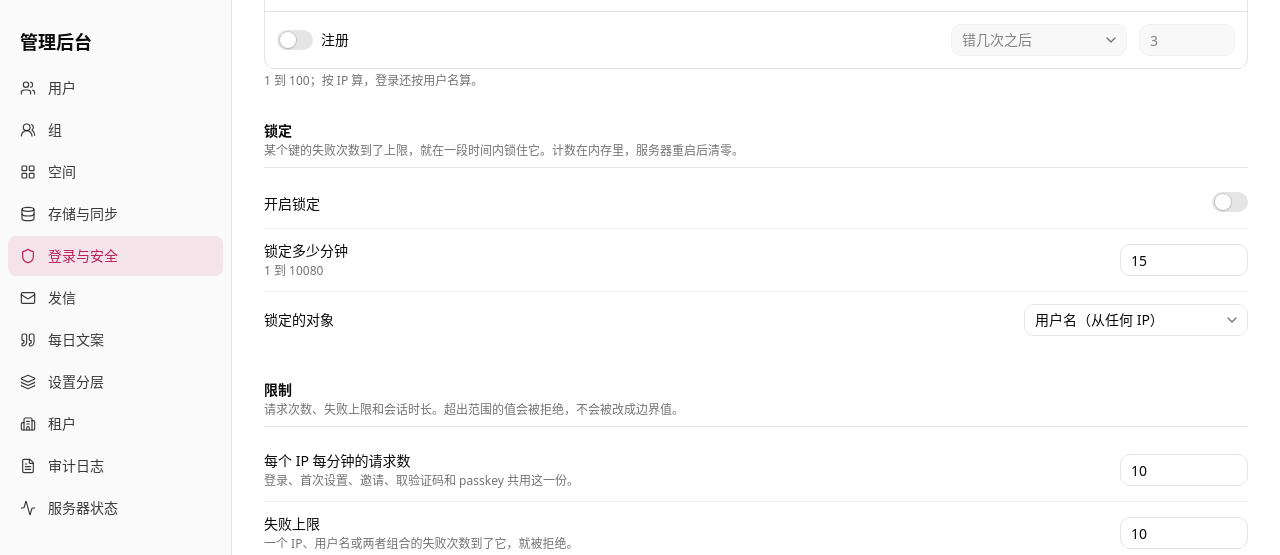
Test case: the security page › lockout by username warns, asks to confirm, and is only chosen after that
The width and height of the screenshot is (1280, 555).
Later steps or results of the test are not shown.
(page scrolled)
Select "用户名（从任何 IP）" in the dropdown with id "security-lock-scope": coordinates (1136, 320) x1=1024 y1=304 x2=1248 y2=336
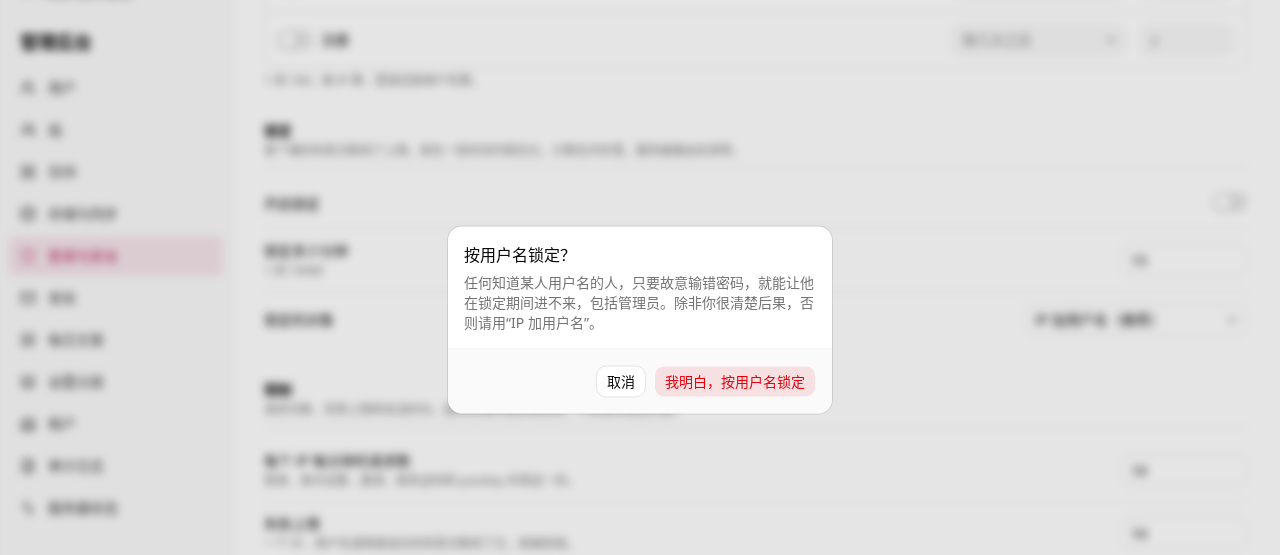
Press the mouse on the button "取消": coordinates (621, 382) x1=596 y1=366 x2=646 y2=398
Click the button "取消": coordinates (621, 382) x1=596 y1=366 x2=646 y2=398
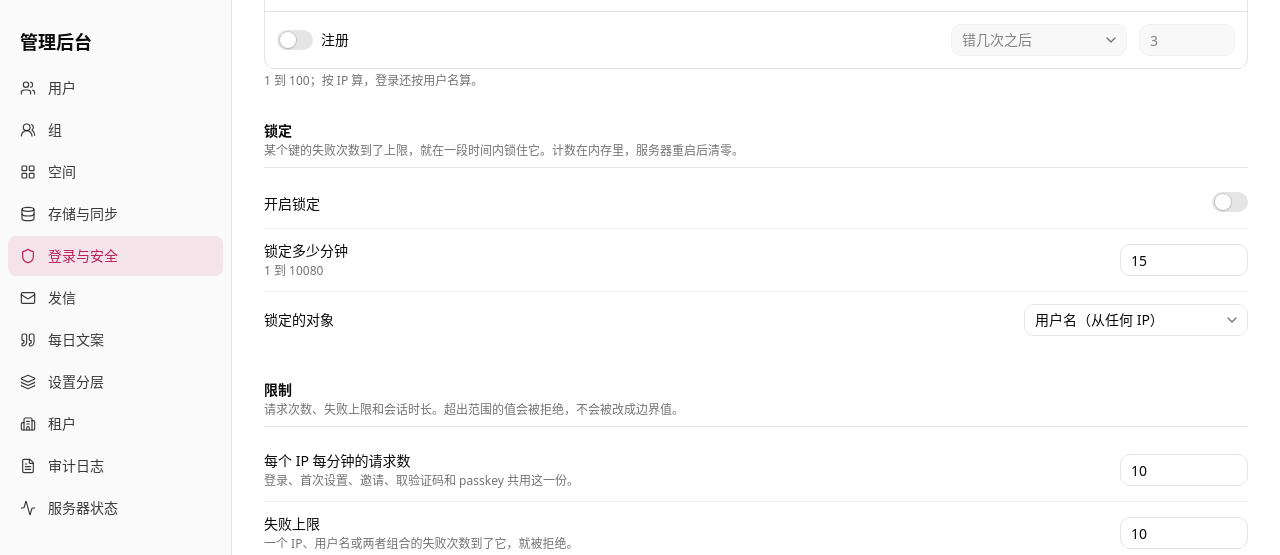
Select "用户名（从任何 IP）" in the dropdown with id "security-lock-scope": coordinates (1136, 320) x1=1024 y1=304 x2=1248 y2=336
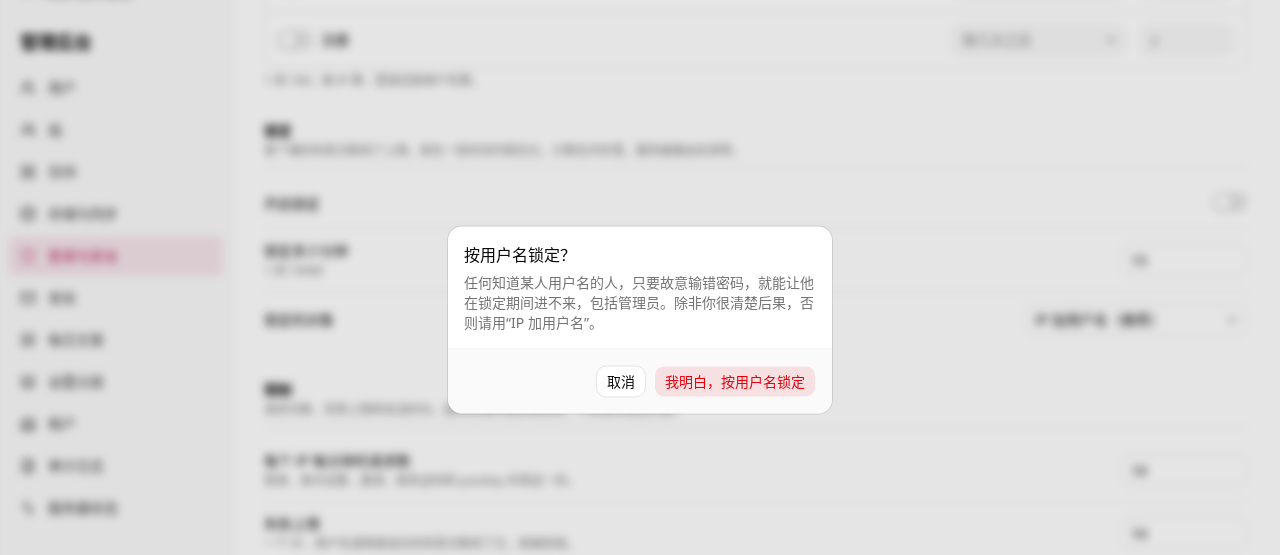
Press the mouse on the button "我明白，按用户名锁定": coordinates (735, 382) x1=654 y1=366 x2=816 y2=398
Click the button "我明白，按用户名锁定": coordinates (735, 382) x1=654 y1=366 x2=816 y2=398
(page scrolled)
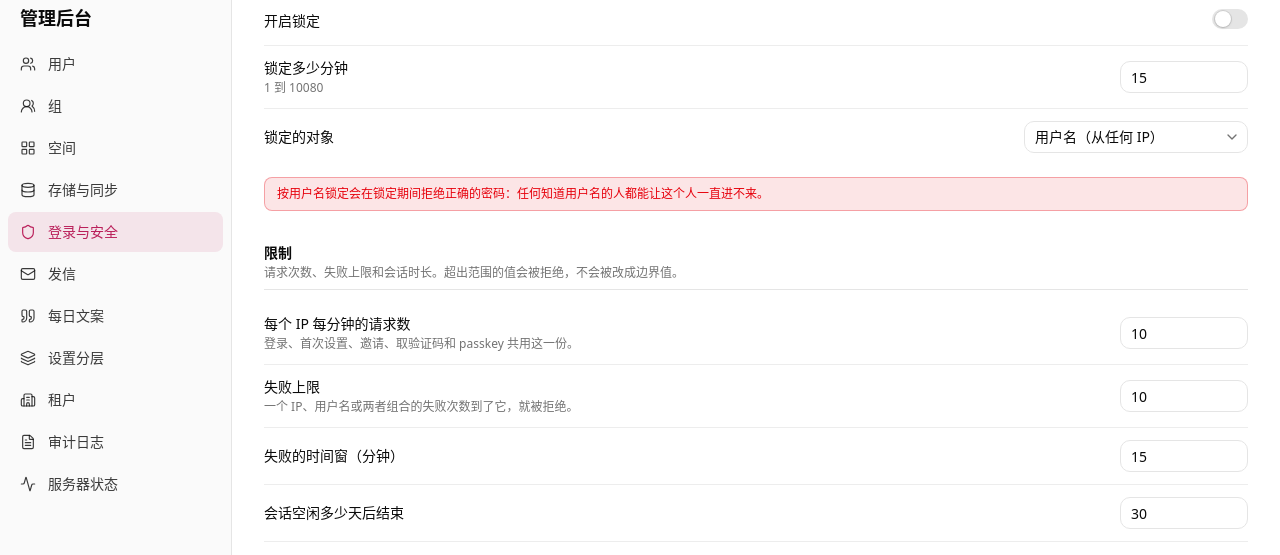
Expected: the message "按用户名锁定会在锁定期间拒绝正确的密码：任何知道用户名的人都能让这个人一直进不来。" is shown, x1=264 y1=177 x2=1248 y2=211
